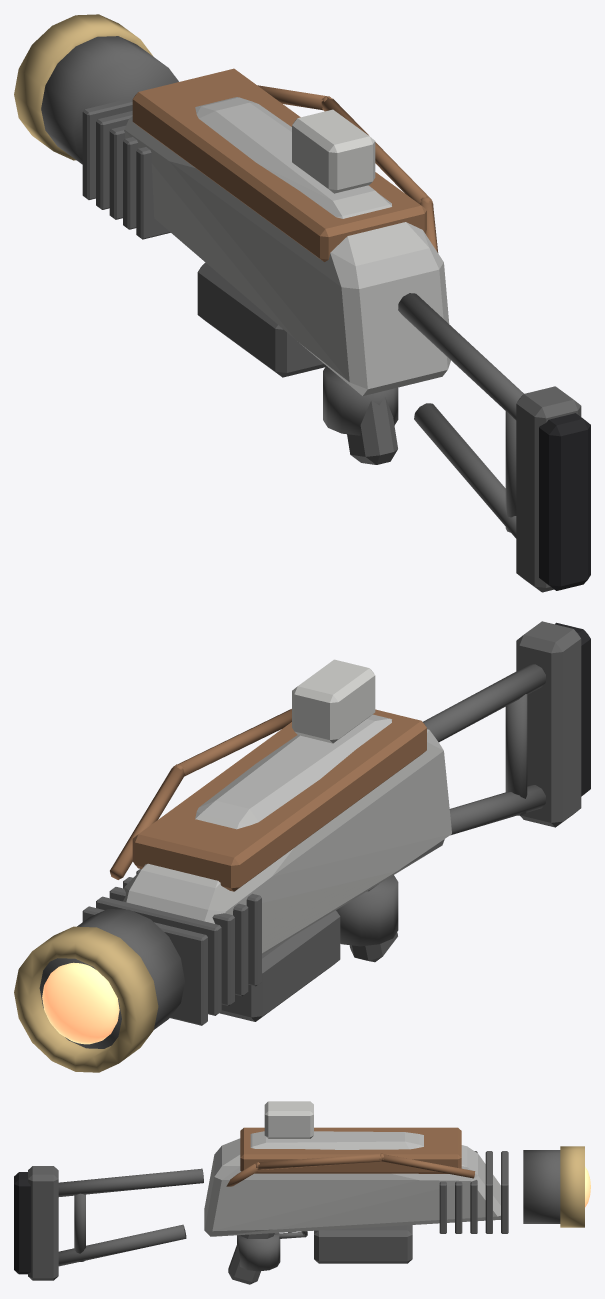
File: laser.glb
3 renders of one model, top to bottom at view 1: azimuth 30°, elevation 25°; view 2: azimuth 150°, elevation 25°; view 3: azimuth 270°, elevation 25°, orthographic. The views are drawn at different scales.
Parts seen in each view (by area): view 1: body; view 2: body, lens; view 3: body.
Part boxes in pixels (x1,y1,x2,y2): body: [14, 14, 590, 592]; body: [14, 621, 590, 1072]; lens: [42, 962, 119, 1044]; body: [14, 1101, 584, 1284].
Bounding box in the file's own units: 0.1523 × 0.3167 × 0.9375.
